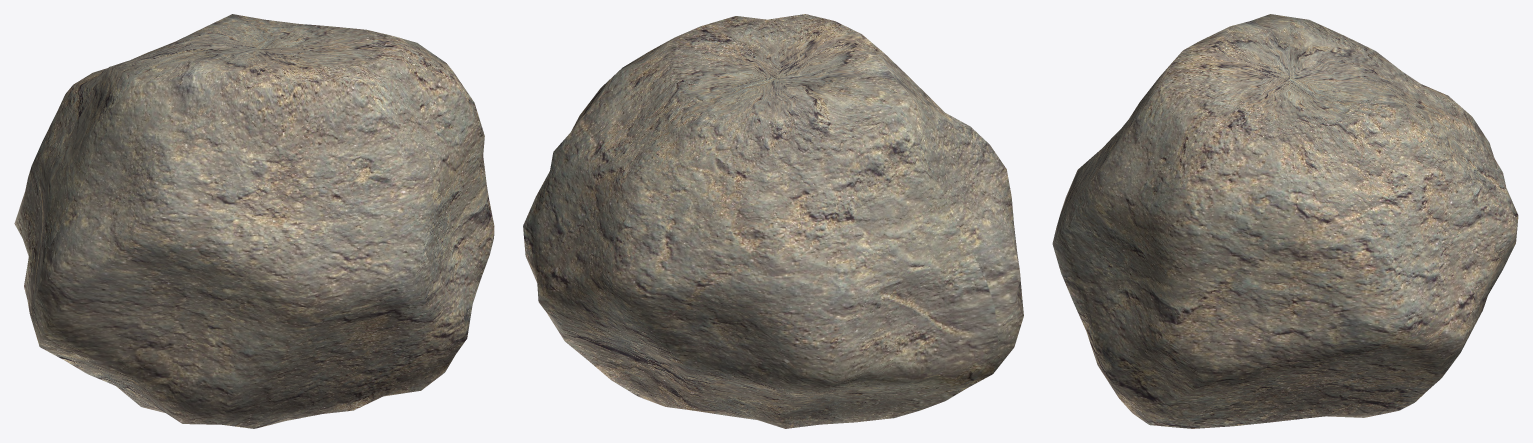
The model's file is Boulder 1 Textured.fbx.
3 views of the same model, side by side, from view 1: azimuth 30°, elevation 25°; view 2: azimuth 150°, elevation 25°; view 3: azimuth 270°, elevation 25° (orthographic). The views are drawn at different scales.
Parts seen in each view (by area): view 1: GeoSphere001; view 2: GeoSphere001; view 3: GeoSphere001.
Part boxes in pixels (box(x1,y1,x2,y2)): GeoSphere001: box(14, 14, 494, 428); GeoSphere001: box(523, 14, 1023, 428); GeoSphere001: box(1052, 14, 1518, 428).
Size of the model in its own units: 23.56 by 17.55 by 22.75.
Materials: 1 (1 with a texture image).
